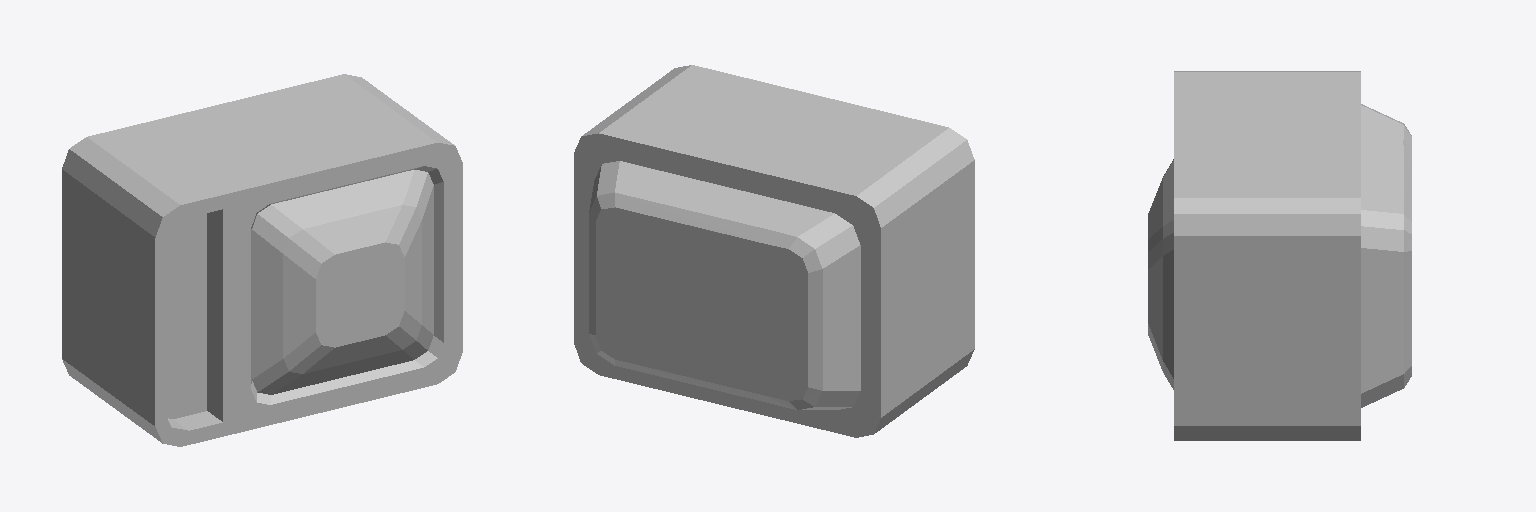
The picture shows the model from 3 angles: view 1: azimuth 30°, elevation 25°; view 2: azimuth 150°, elevation 25°; view 3: azimuth 270°, elevation 25°; orthographic projection.
Parts seen in each view (by area): view 1: Deco_01.002; view 2: Deco_01.002; view 3: Deco_01.002.
Boxes of the visible parts, box(x1,y1,x2,y2) form: Deco_01.002: box(62, 74, 462, 446); Deco_01.002: box(574, 65, 974, 437); Deco_01.002: box(1148, 71, 1411, 440).
Bounding box in the file's own units: 1.31 × 0.9852 × 0.9758.